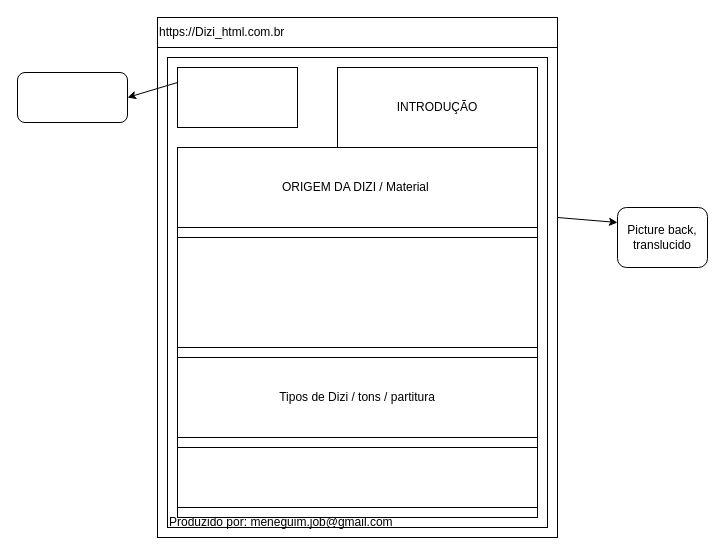
Some shapes in this 725 by 555 pixel diagram are drawn without their labels. The centre of each missing label's shape, as x and y in pixels:
Canais p/ aprender: the point at 357,477
DESCRIÇÃO / Formato / Finger Hole / Embocadura: the point at 357,292
Picture with effect =>: the point at 72,97
